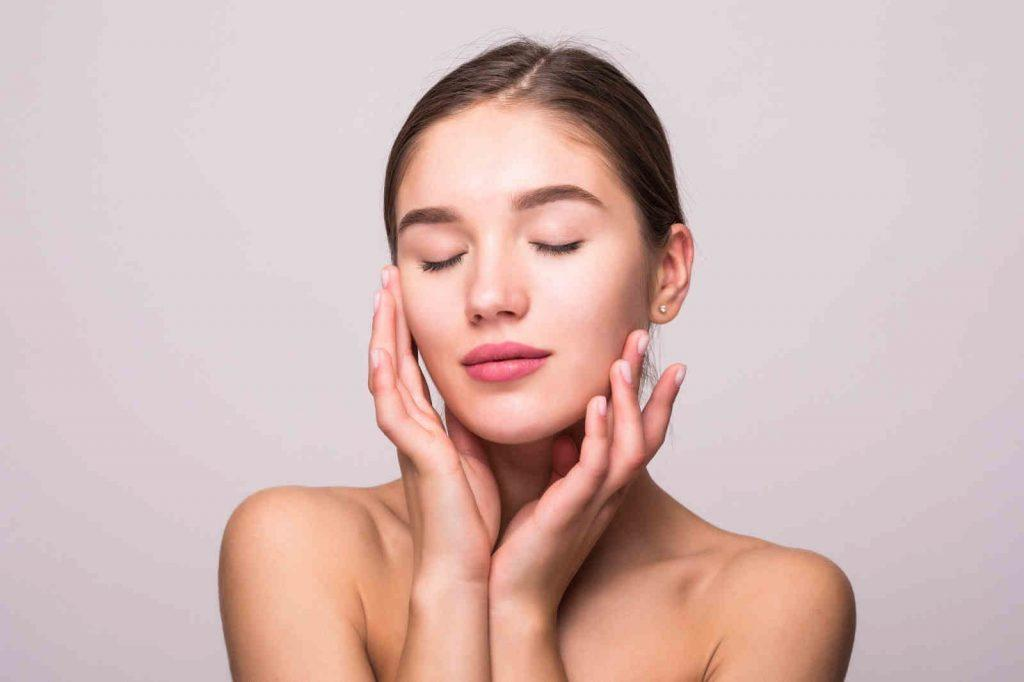Oily-Skin: (421, 127, 587, 210), (467, 193, 540, 338), (551, 259, 636, 350), (405, 277, 484, 352)
